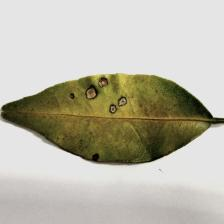canker: (51, 76, 148, 170)
